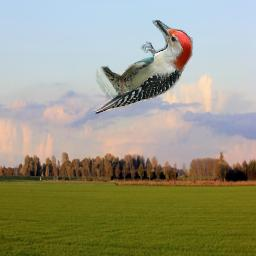Woodpecker: (92, 20, 193, 114)
